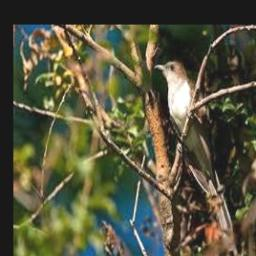Cuckoo: (155, 61, 233, 234)
